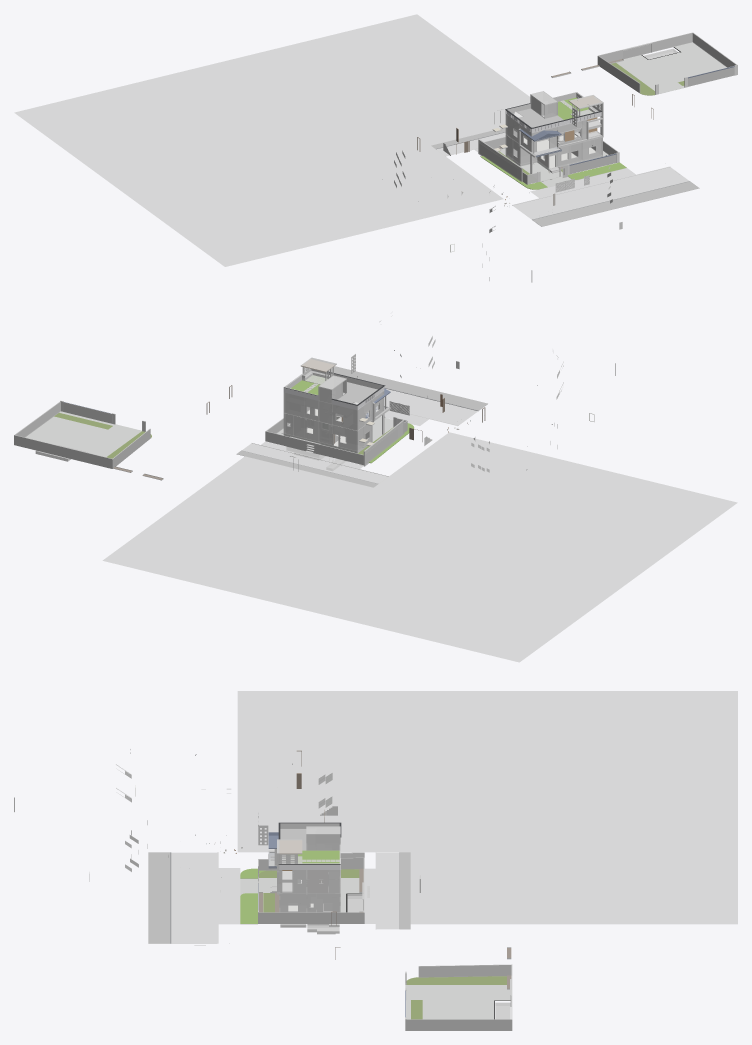
The model's file is pune-villa-web.glb.
The picture shows the model from 3 angles, top to bottom: view 1: azimuth 30°, elevation 25°; view 2: azimuth 150°, elevation 25°; view 3: azimuth 270°, elevation 25°; orthographic projection. The views are drawn at different scales.
Size of the model in its own units: 4417 by 889 by 4004.
